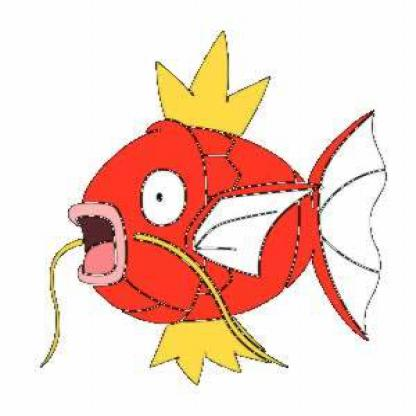Magikarp: (47, 41, 416, 383)
